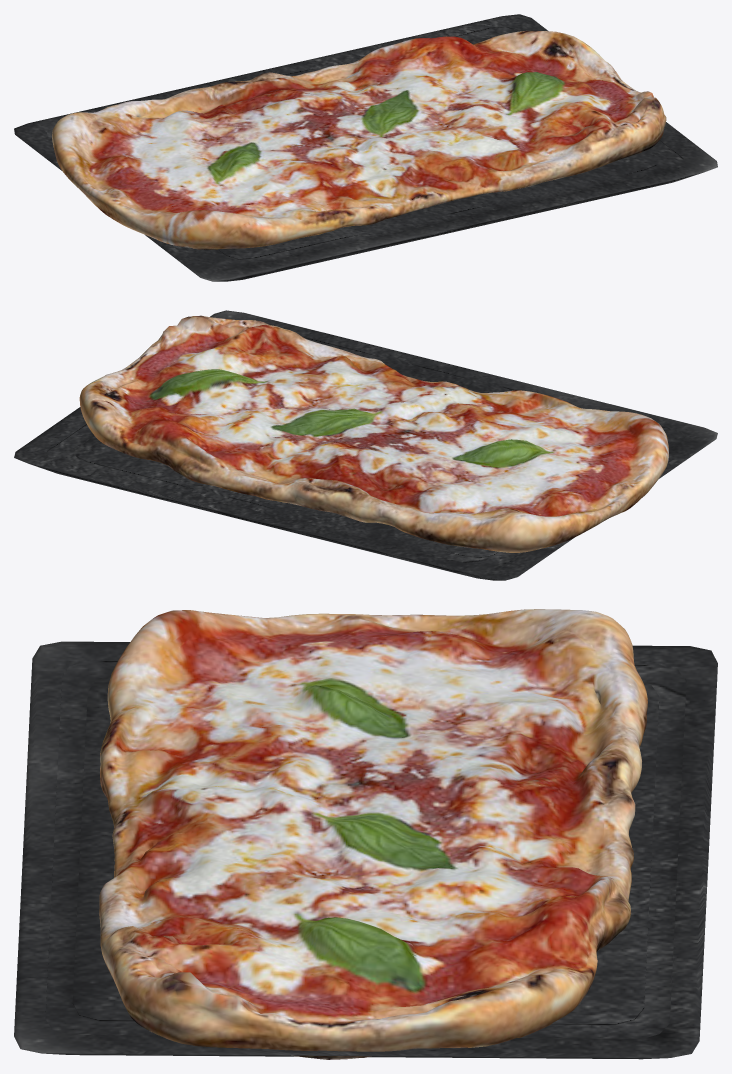
Rendered from pizza-draco.glb.
The picture shows the model from 3 angles, top to bottom: view 1: azimuth 30°, elevation 25°; view 2: azimuth 150°, elevation 25°; view 3: azimuth 270°, elevation 25°; orthographic projection. The views are drawn at different scales.
Parts seen in each view (by area): view 1: Pizza2.001, Plane001.001; view 2: Pizza2.001, Plane001.001; view 3: Pizza2.001, Plane001.001.
Boxes of the visible parts, x1,y1,x2,y2 form: Pizza2.001: (52, 30, 666, 249); Plane001.001: (14, 14, 717, 281); Pizza2.001: (79, 315, 668, 552); Plane001.001: (14, 310, 717, 580); Pizza2.001: (99, 609, 647, 1059); Plane001.001: (14, 641, 717, 1059).
Size of the model in its own units: 1.18 by 0.1058 by 0.8389.
Materials: 2 (2 with a texture image).
